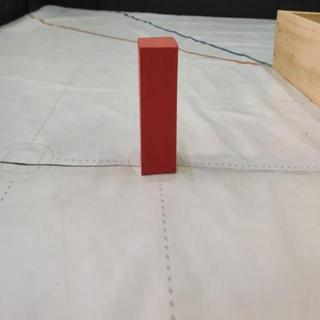redbox: (137, 35, 178, 174)
